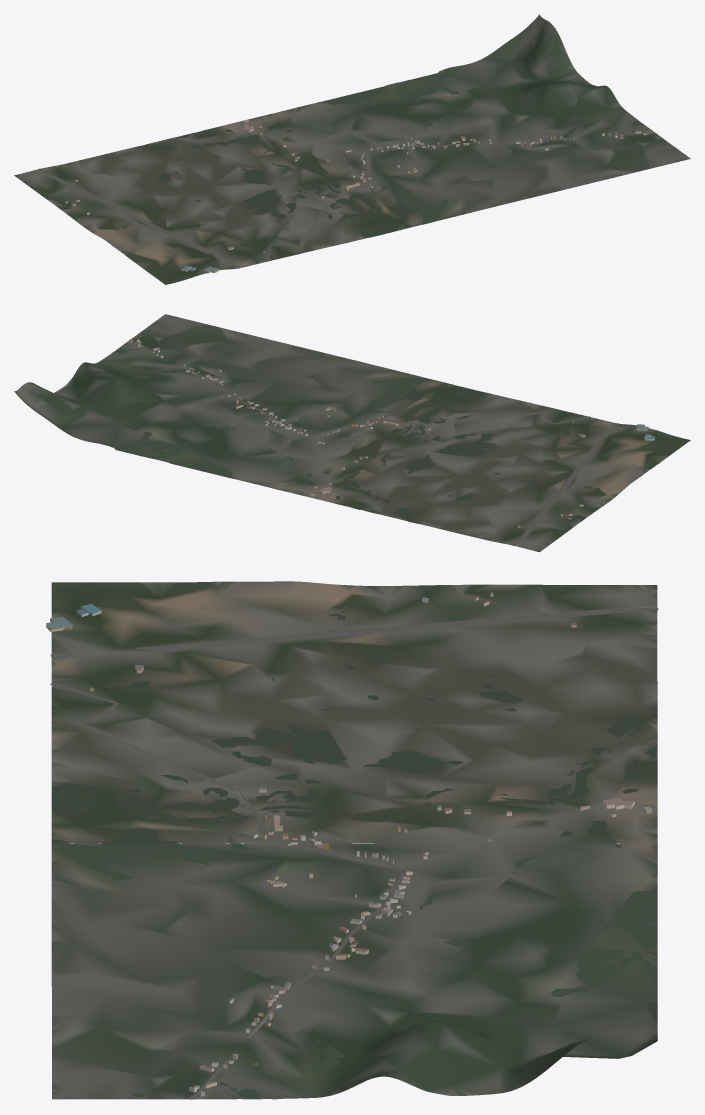
3 renders of one model, top to bottom at view 1: azimuth 30°, elevation 25°; view 2: azimuth 150°, elevation 25°; view 3: azimuth 270°, elevation 25°, orthographic. The views are drawn at different scales.
Parts seen in each view (by area): view 1: ground, water, roads, buildings; view 2: ground, water, roads, buildings; view 3: ground, water, roads, buildings.
Part boxes in pixels (x1,y1,x2,y2): ground: (14,14,690,284); water: (113,71,666,282); roads: (35,132,656,268); buildings: (65,120,650,273); ground: (14,314,690,552); water: (108,330,683,522); roads: (130,339,618,546); buildings: (130,339,654,527); ground: (51,581,657,1099); water: (52,587,657,1098); roads: (50,605,658,1099); buildings: (46,591,651,1096).
Bounding box in the file's own units: 2812 × 178 × 1417.
